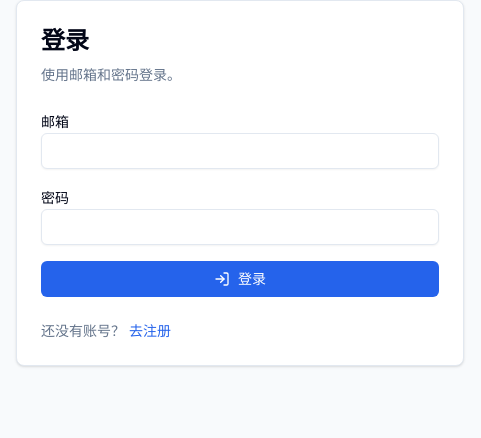
Test: AuthForm › renders api errors
Type "alice@example.com" into the field labelled "邮箱".
click(240, 151); type("alice@example.com")  # box [41,133,439,169]
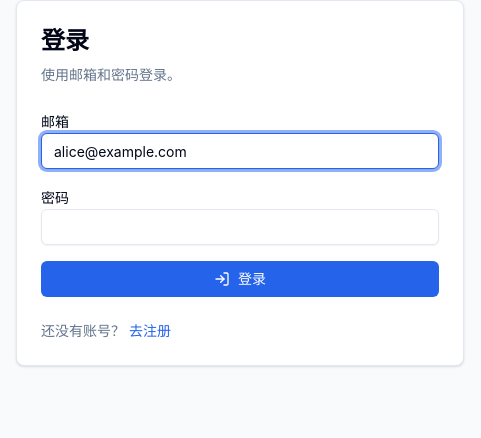
Type "password123" into the password field labelled "密码".
click(240, 227); type("password123")  # box [41,209,439,245]
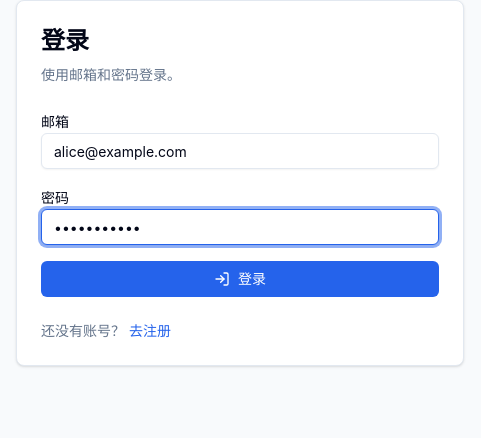
Click the button "登录".
click(240, 279)  # box [41,261,439,297]
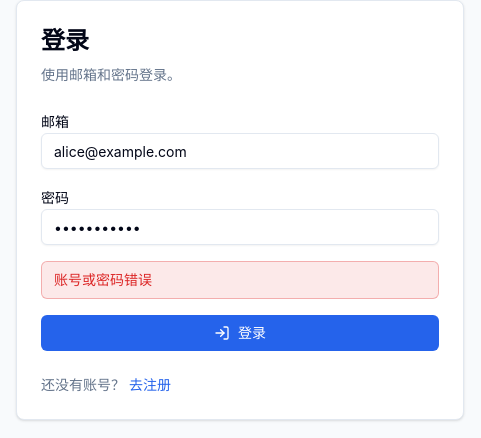
Now the message reads "账号或密码错误", box [54,271,152,288]
